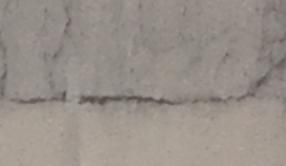fissura: (0, 18, 286, 108)
